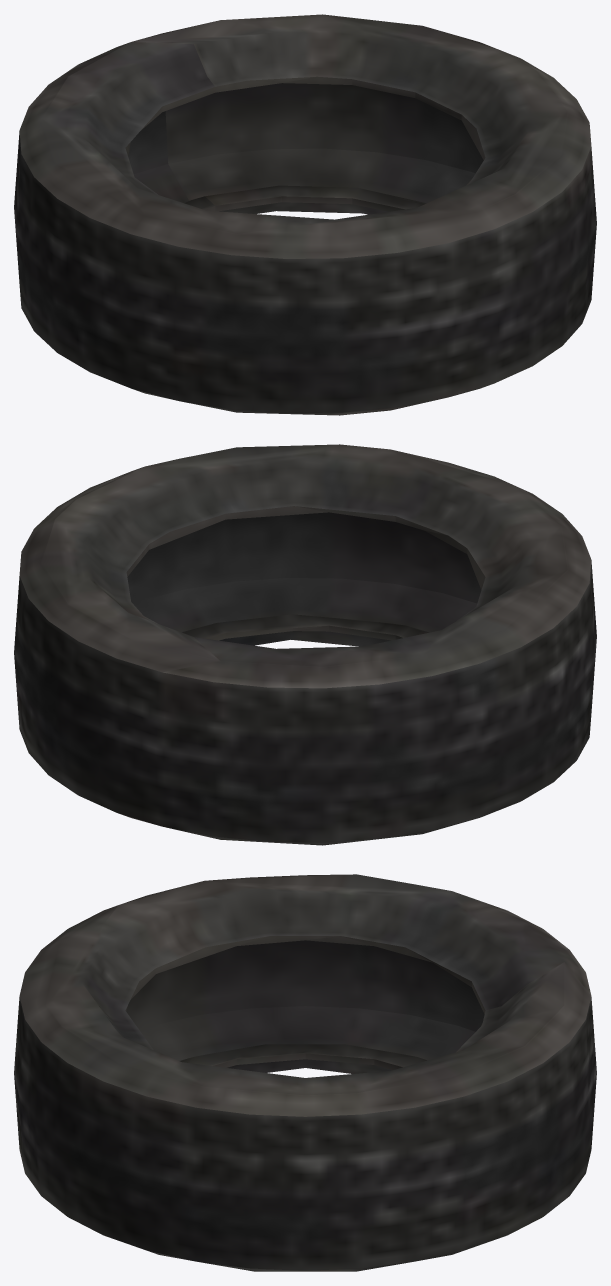
The model's file is tire.glb.
The picture shows the model from 3 angles, top to bottom: view 1: azimuth 30°, elevation 25°; view 2: azimuth 150°, elevation 25°; view 3: azimuth 270°, elevation 25°; orthographic projection.
Parts seen in each view (by area): view 1: Car_Tire_01; view 2: Car_Tire_01; view 3: Car_Tire_01.
Part boxes in pixels (<box>): Car_Tire_01: <box>14,14,596,415</box>; Car_Tire_01: <box>14,444,596,845</box>; Car_Tire_01: <box>14,874,596,1271</box>.
Size of the model in its own units: 0.6868 by 0.2362 by 0.6868.
Materials: 1 (1 with a texture image).
